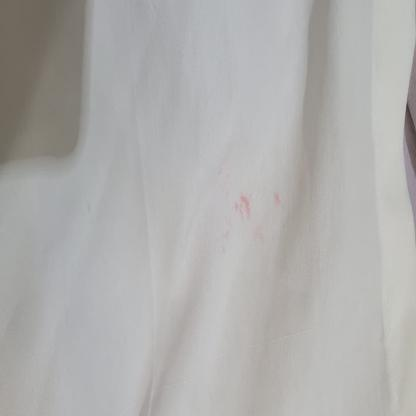spot: (217, 173, 292, 251)
